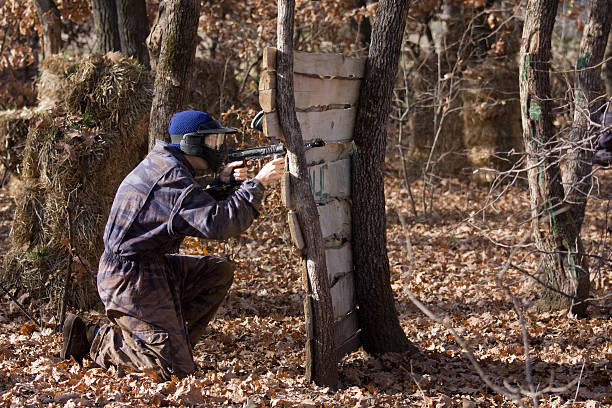gun: (226, 145, 286, 187)
